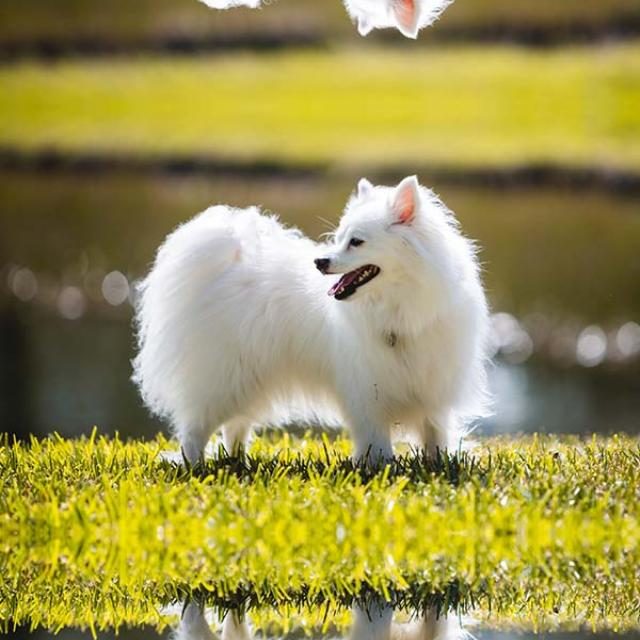dog: (127, 168, 511, 476), (127, 589, 511, 640), (127, 0, 511, 43)
